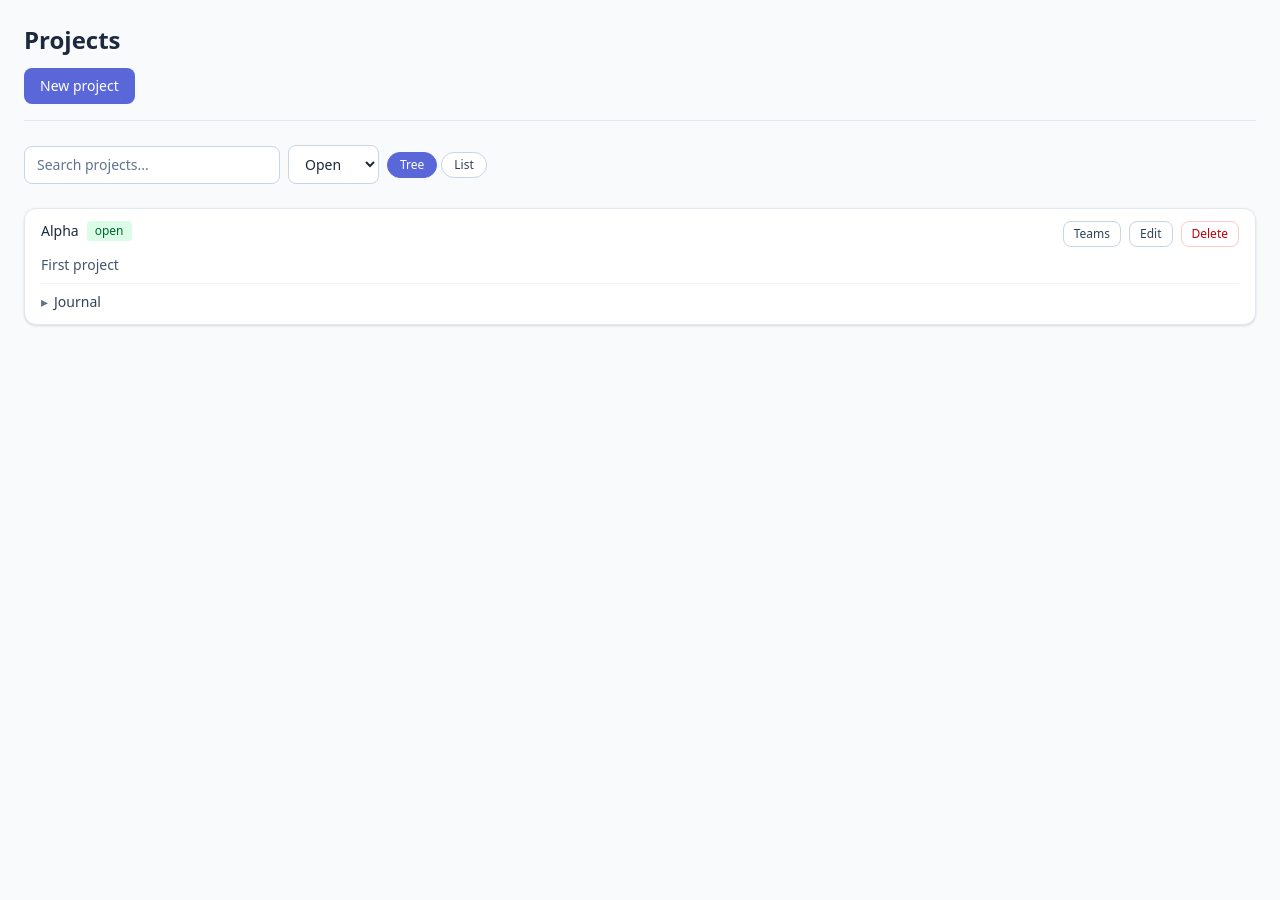
Test: ProjectsPanel - delete flow › shows why a delete failed
This screenshot has width=1280, height=900.
Expected: the text "Alpha" is shown, [41,221,79,241]
Click the button "Delete": (1210, 234) [1180,221,1239,247]
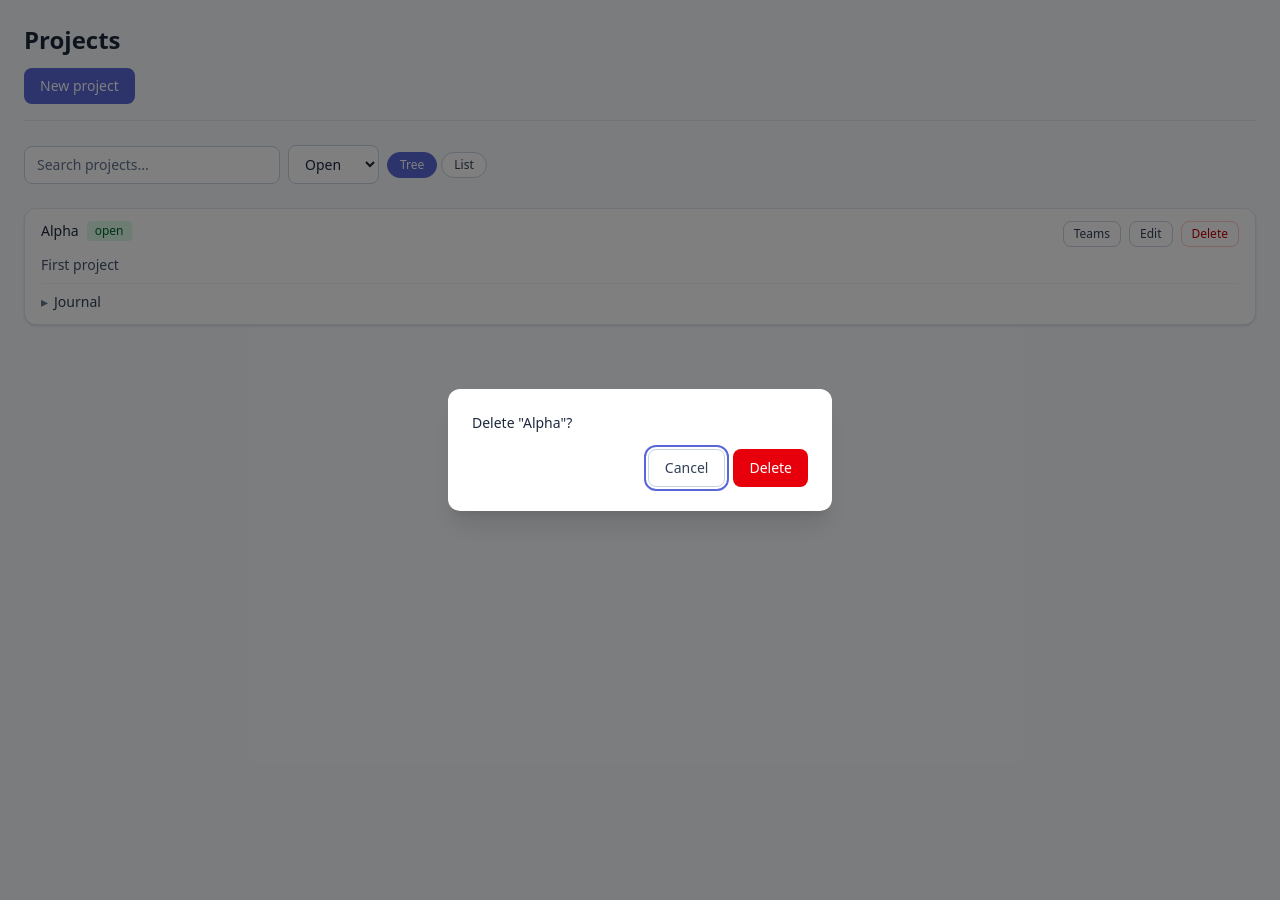
Click the button "Delete" below "Delete \"Alpha\"?": (771, 468) [733,449,808,487]
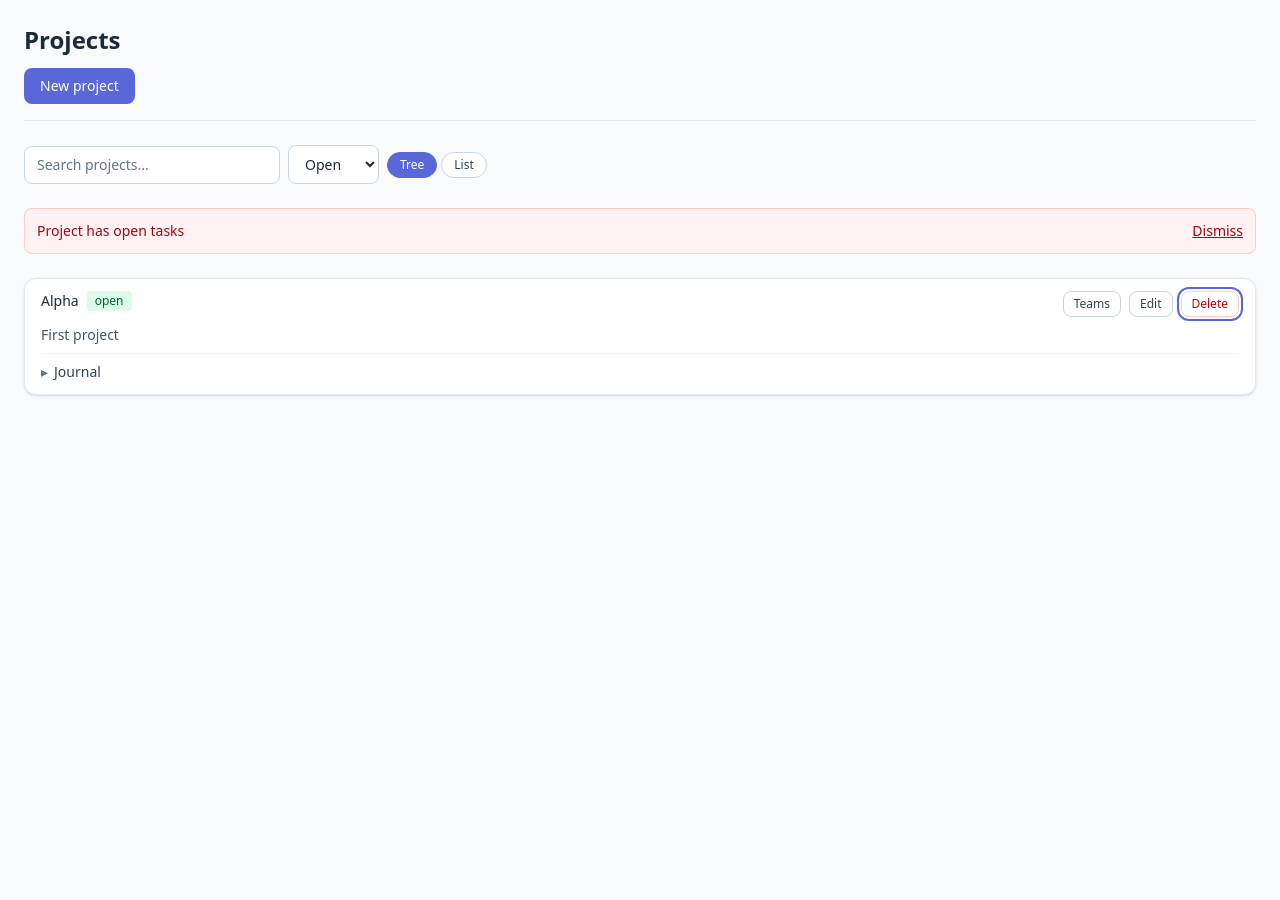
Expected: the text "Project has open tasks" is shown, [37,221,184,241]
